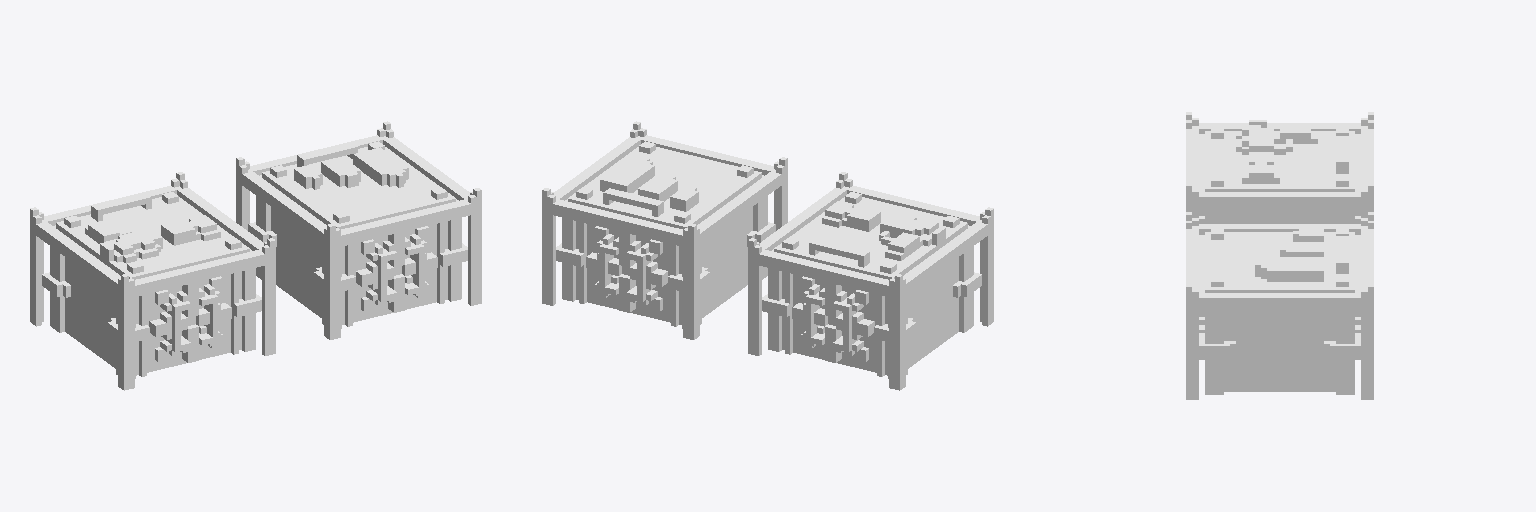
File: Arma-Rec.obj
The picture shows the model from 3 angles: view 1: azimuth 30°, elevation 25°; view 2: azimuth 150°, elevation 25°; view 3: azimuth 270°, elevation 25°; orthographic projection.
Parts seen in each view (by area): view 1: object 1; view 2: object 1; view 3: object 1.
Boxes of the visible parts, x1=… form: object 1: x1=30, y1=121, x2=481, y2=390; object 1: x1=542, y1=121, x2=993, y2=390; object 1: x1=1186, y1=112, x2=1373, y2=399.
Bounding box in the file's own units: 6.6 × 2 × 3.